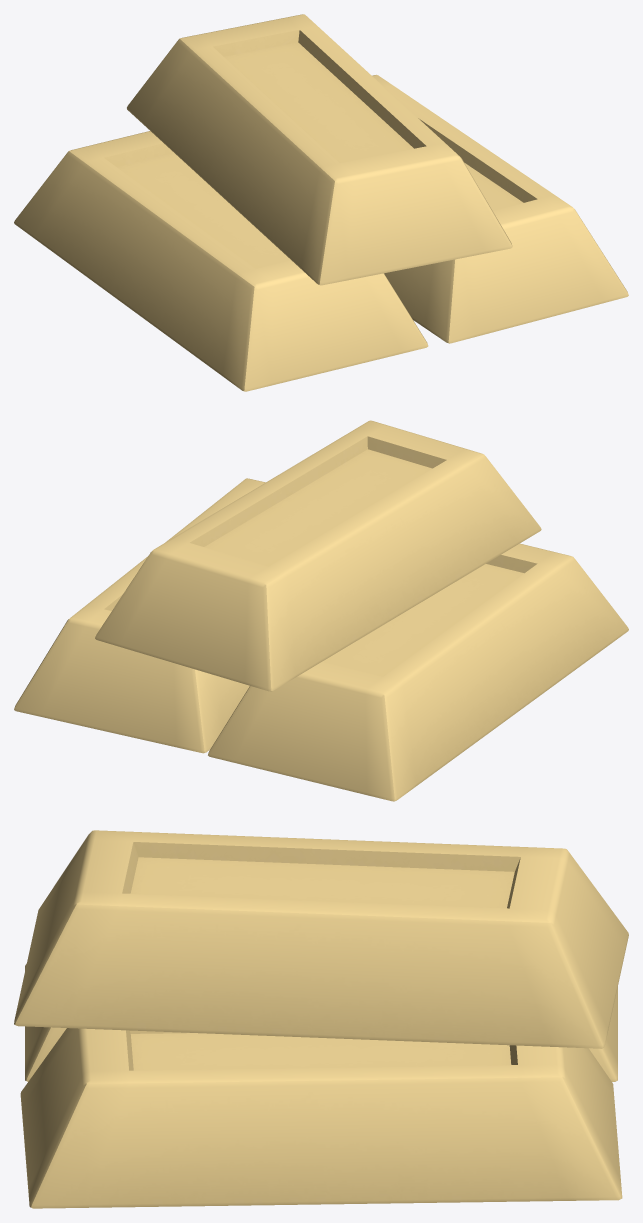
File: fine_gold_bar.glb
The picture shows the model from 3 angles, top to bottom: view 1: azimuth 30°, elevation 25°; view 2: azimuth 150°, elevation 25°; view 3: azimuth 270°, elevation 25°; orthographic projection. The views are drawn at different scales.
Visible parts, largest first — view 1: Cube.002_2, Cube_0, Cube.001_1; view 2: Cube.002_2, Cube_0, Cube.001_1; view 3: Cube.002_2, Cube.001_1, Cube_0.
Boxes of the visible parts, x1,y1,x2,y2 form: Cube.002_2: (127,14,512,285); Cube_0: (14,131,428,391); Cube.001_1: (372,74,628,343); Cube.002_2: (95,420,541,691); Cube_0: (208,543,628,801); Cube.001_1: (14,478,265,753); Cube.002_2: (14,830,628,1048); Cube.001_1: (20,1028,622,1208); Cube_0: (25,964,617,1081).
Bounding box in the file's own units: 2.88 × 1.17 × 3.09.
1 material, 1 textured.
